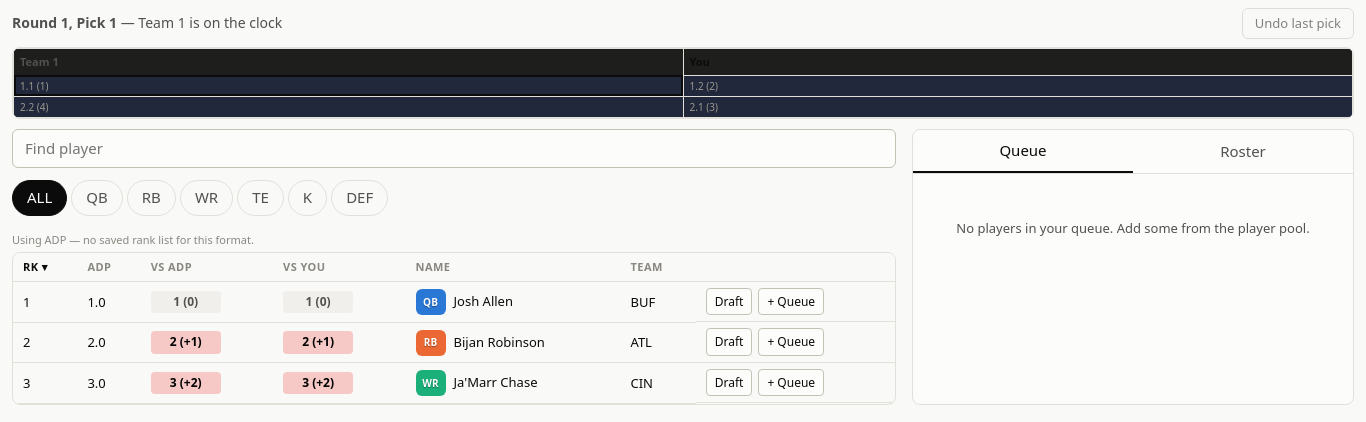
Test case: DraftRoom › adding a player to the queue shows them under the Queue tab
Expected: the text "Josh Allen" is shown, [454,292,513,310]
Click the button "+ Queue" in the row of "1.0": (791, 302) [758,288,824,315]
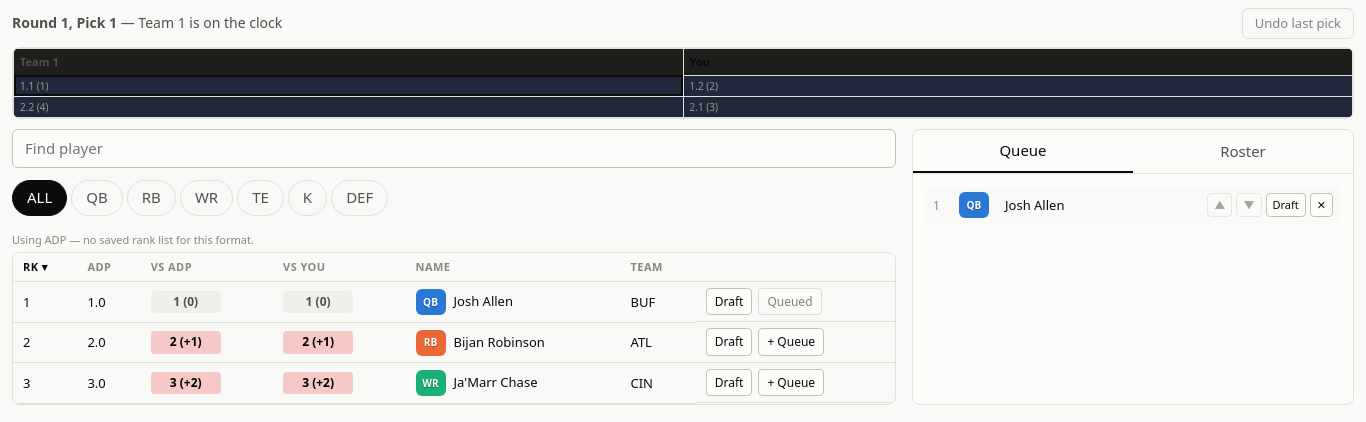
Expected: the button "Queued" is shown, [758,288,822,315]
Expected: the list item shows "Josh Allen", [1005,196,1064,214]
